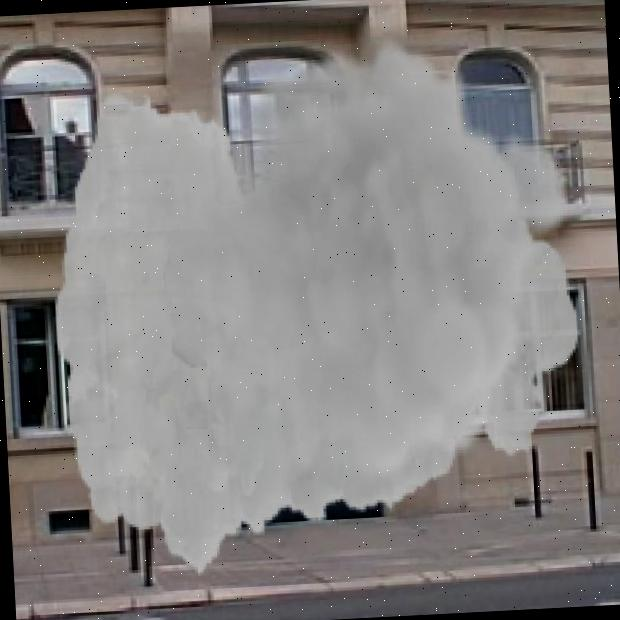smoke: (39, 26, 591, 584)
